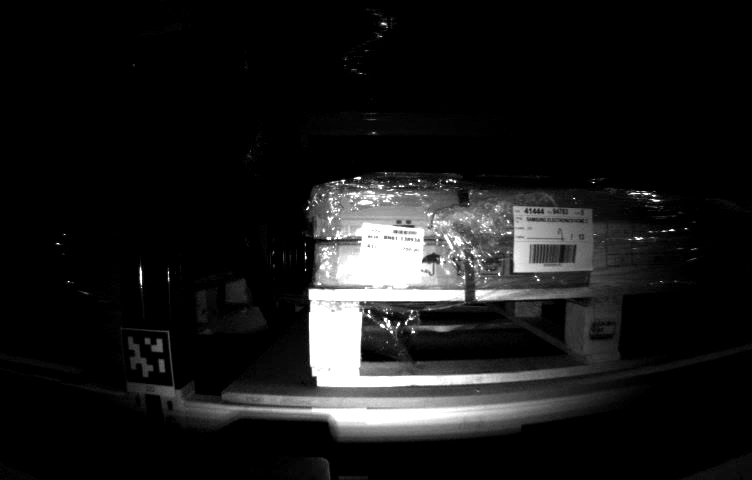True Barcode: (362, 219, 427, 286)
